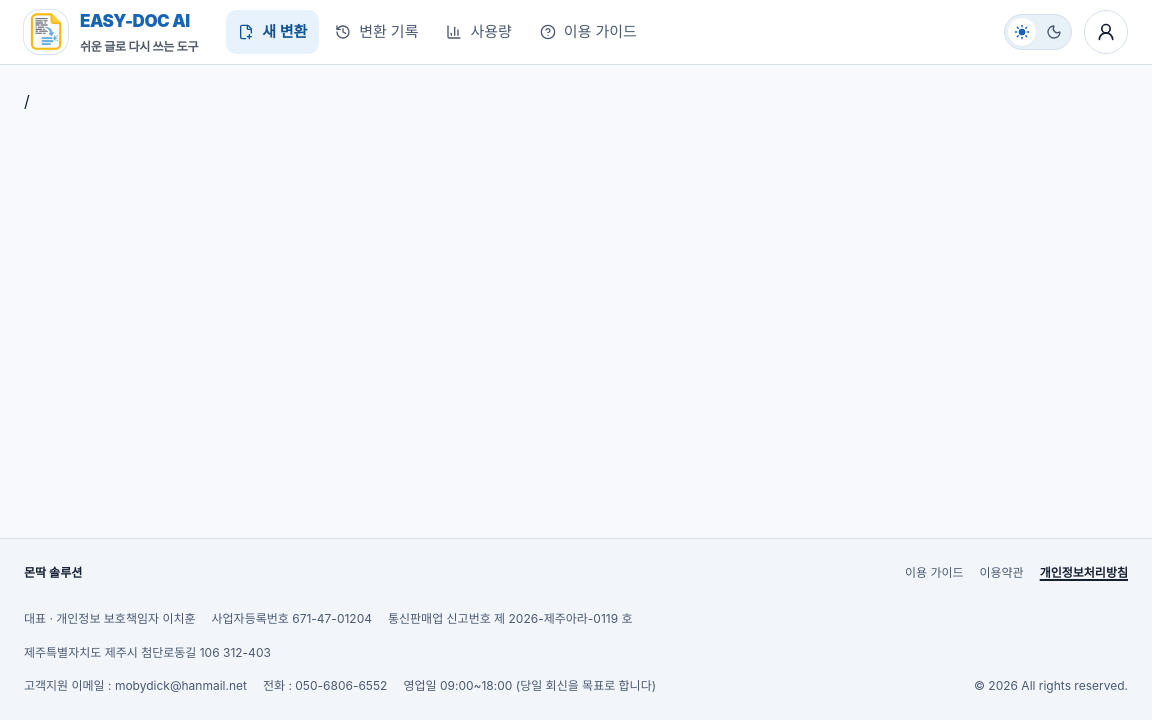
Test: 계정 메뉴 — 관리 링크 (어드민 최소, 계약 2.25.0) › 저장하지 않은 수정이 있으면 다른 이동 링크와 같이 확인을 거쳐야 한다
Click the button named "계정 메뉴".
click(1106, 32)  # box [1084,10,1128,54]
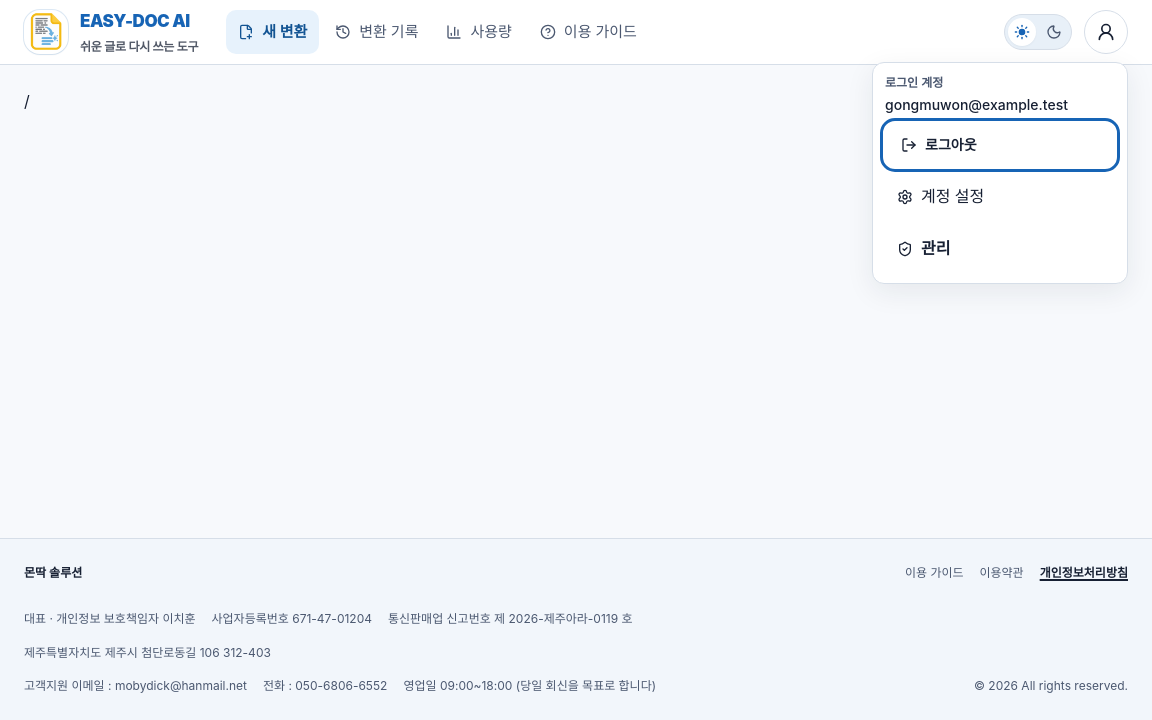
Click the link "관리".
click(924, 248)  # box [897,238,950,258]
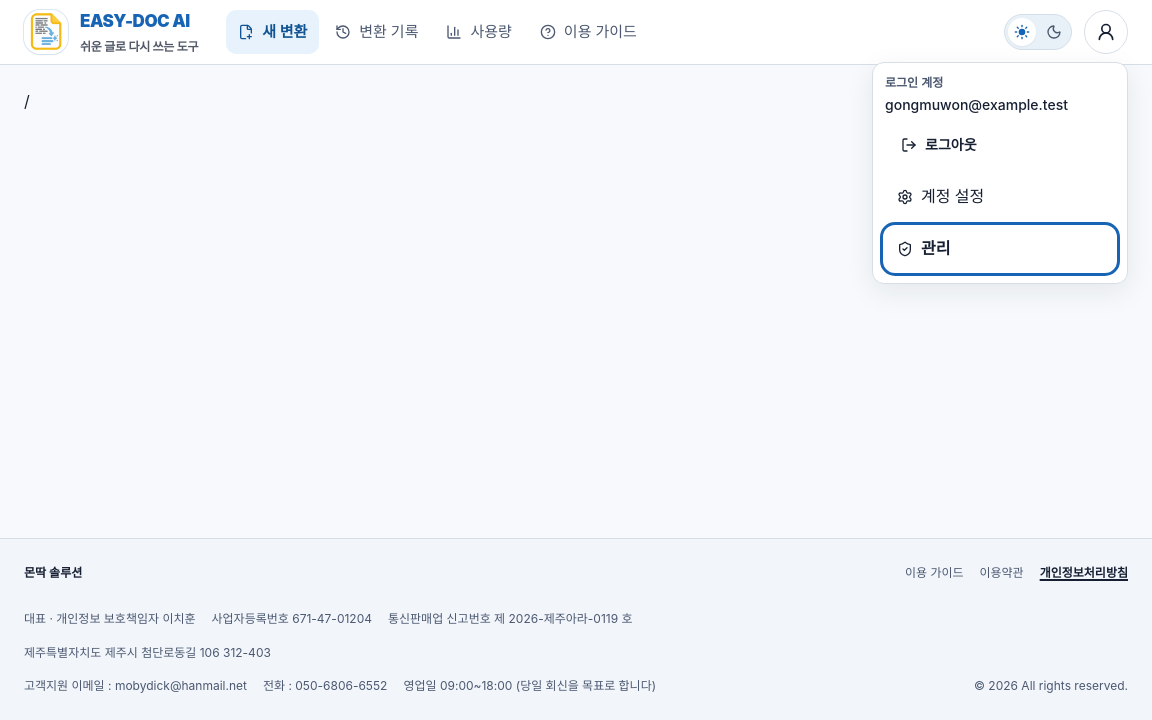
Expected: the text with test id "location" reads "/", [24,91,30,111]
Result: the link "관리" is shown
Click the link "관리".
click(924, 248)  # box [897,238,950,258]
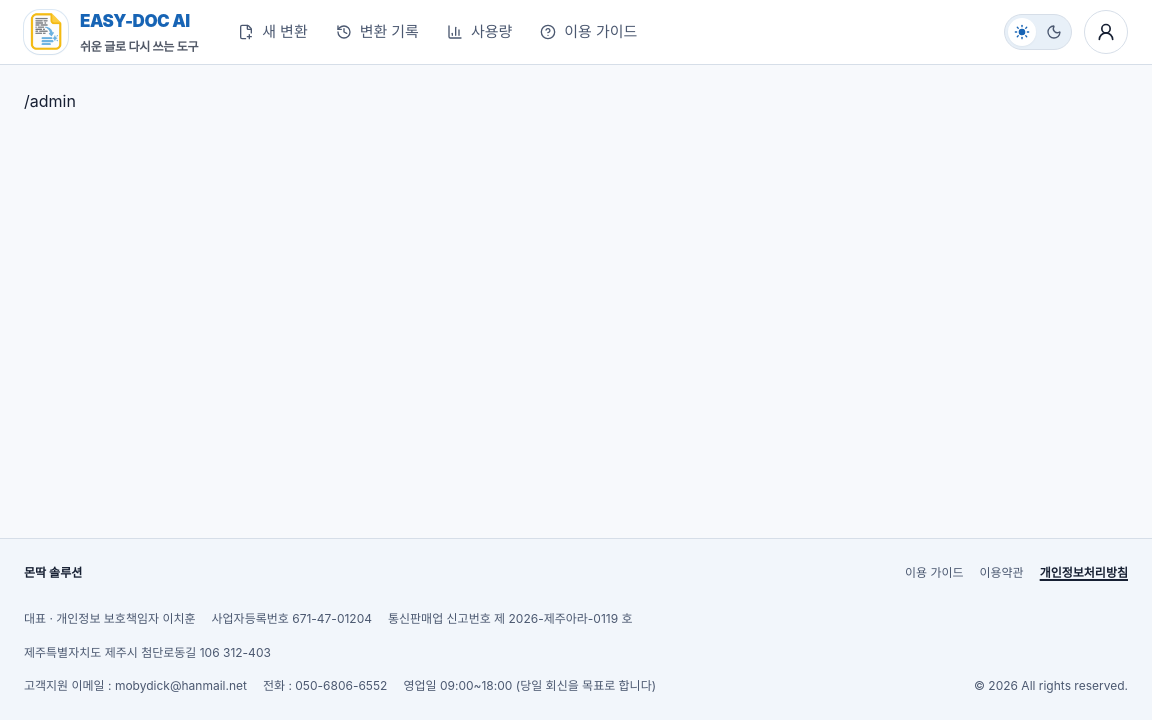
Result: the text with test id "location" reads "/admin" at [24,91,76,111]
Result: the link "관리" is gone
